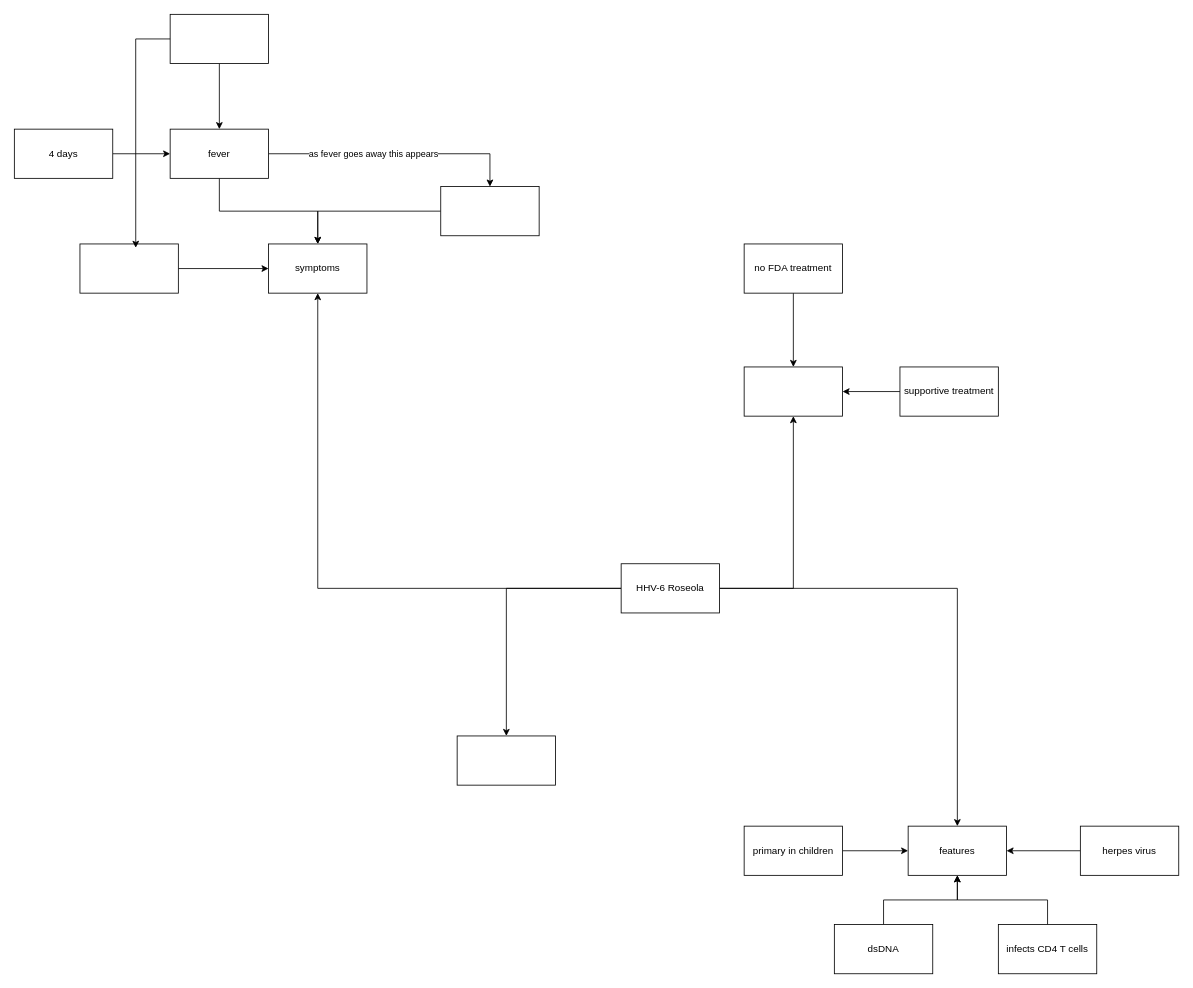
The diagram is 1193 pixels wide and 988 high, and some of its shapes have lost their labels. The shapes that lost their labels are listed below. From the top down, each one's centre as x and y in pixels, then its label:
the point at 219,39: very high fevers leading to
the point at 489,211: rash
the point at 128,268: siezure
the point at 793,391: treatment
the point at 506,760: complications
